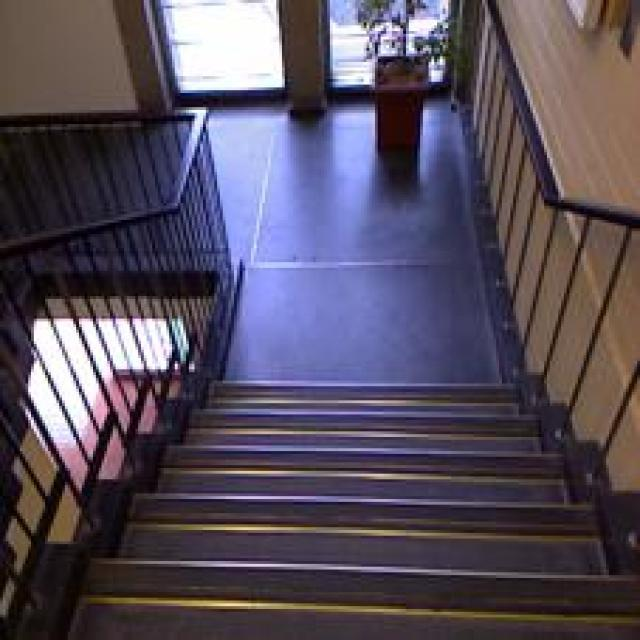Stair Down: (75, 379, 627, 631)
